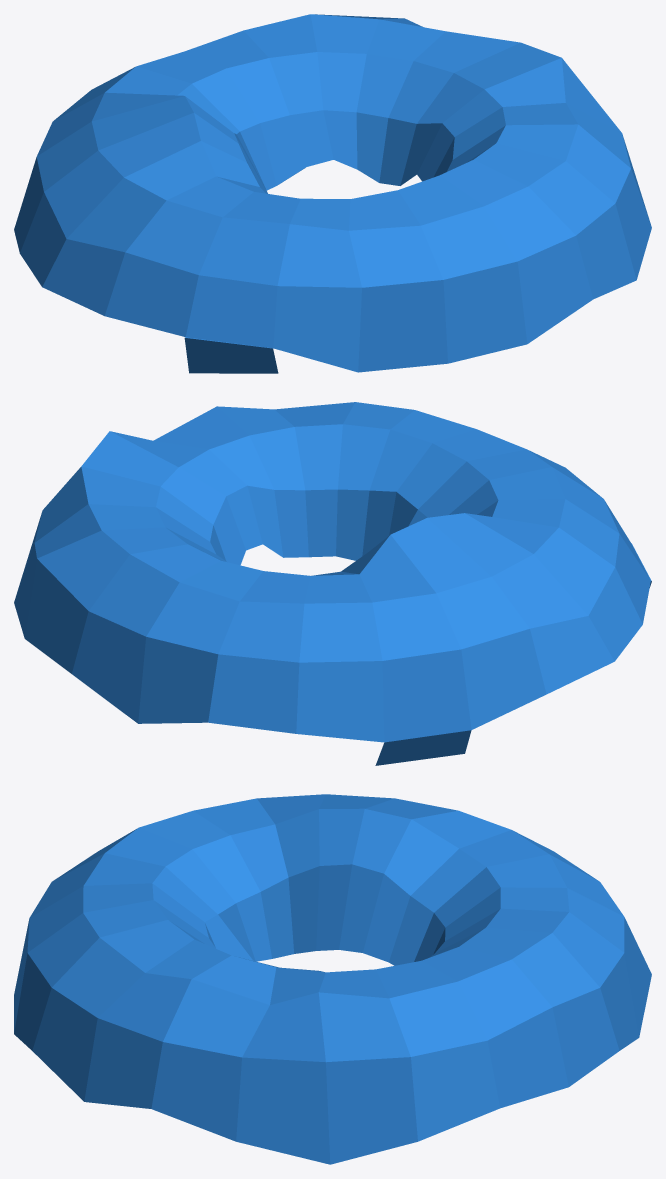
The model's file is lowpolydonut_icing_blue.glb.
3 views of the same model, one above another, from view 1: azimuth 30°, elevation 25°; view 2: azimuth 150°, elevation 25°; view 3: azimuth 270°, elevation 25° (orthographic). The views are drawn at different scales.
Visible parts, largest first — view 1: Icing; view 2: Icing; view 3: Icing.
Part boxes in pixels (left/top/right/bottom): Icing: left=14, top=14, right=651, bottom=373; Icing: left=14, top=402, right=651, bottom=765; Icing: left=14, top=794, right=651, bottom=1164.
Size of the model in its own units: 0.0894 by 0.0255 by 0.0862.
